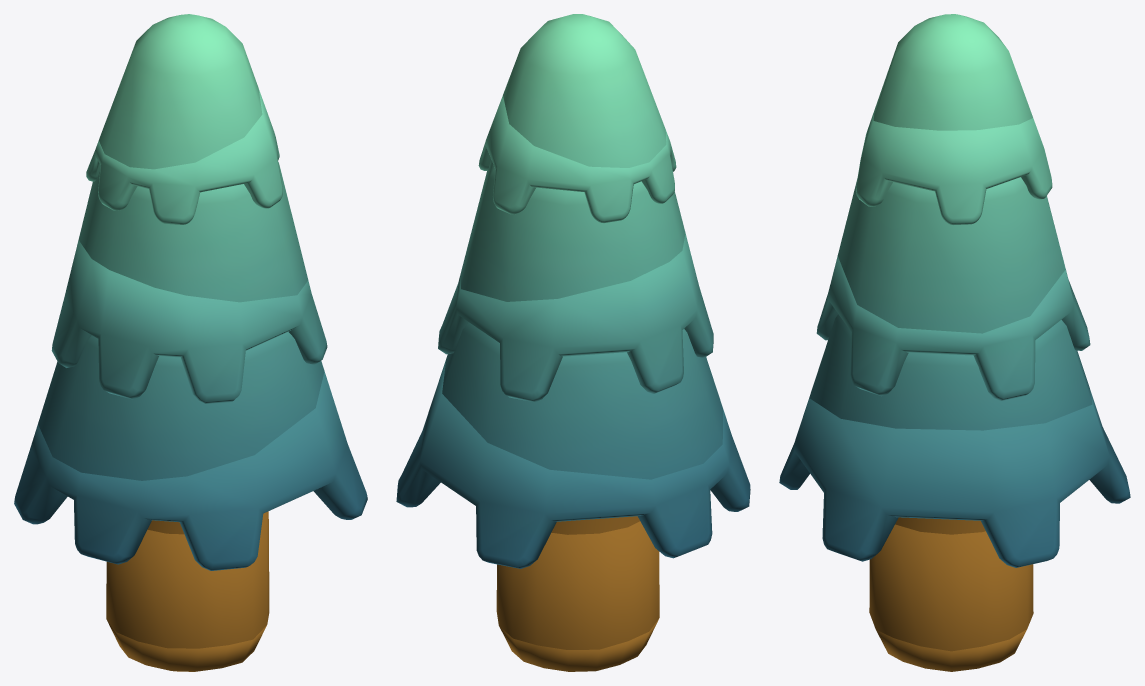
File: Tree_2.fbx
The picture shows the model from 3 angles, left to right: view 1: azimuth 30°, elevation 25°; view 2: azimuth 150°, elevation 25°; view 3: azimuth 270°, elevation 25°; orthographic projection.
Visible parts, largest first — view 1: Trtee_Cuts4, Trtee_Cuts3, Trtee_Cuts5, Trtee_Cuts2, Trtee_Cuts6, Trtee_Cuts1; view 2: Trtee_Cuts4, Trtee_Cuts3, Trtee_Cuts5, Trtee_Cuts2, Trtee_Cuts6, Trtee_Cuts1; view 3: Trtee_Cuts3, Trtee_Cuts5, Trtee_Cuts4, Trtee_Cuts6, Trtee_Cuts2, Trtee_Cuts1.
Boxes of the visible parts, x1=… form: Trtee_Cuts4: x1=38, y1=240, x2=327, y2=480; Trtee_Cuts3: x1=78, y1=89, x2=308, y2=302; Trtee_Cuts5: x1=14, y1=372, x2=367, y2=570; Trtee_Cuts2: x1=99, y1=14, x2=262, y2=169; Trtee_Cuts6: x1=106, y1=511, x2=269, y2=648; Trtee_Cuts1: x1=107, y1=620, x2=266, y2=671; Trtee_Cuts4: x1=438, y1=233, x2=722, y2=479; Trtee_Cuts3: x1=461, y1=95, x2=685, y2=301; Trtee_Cuts5: x1=396, y1=359, x2=750, y2=568; Trtee_Cuts2: x1=503, y1=14, x2=666, y2=167; Trtee_Cuts6: x1=496, y1=521, x2=659, y2=649; Trtee_Cuts1: x1=499, y1=619, x2=658, y2=671; Trtee_Cuts3: x1=837, y1=111, x2=1065, y2=333; Trtee_Cuts5: x1=779, y1=389, x2=1130, y2=567; Trtee_Cuts4: x1=809, y1=247, x2=1092, y2=430; Trtee_Cuts6: x1=869, y1=524, x2=1033, y2=651; Trtee_Cuts2: x1=873, y1=14, x2=1032, y2=130; Trtee_Cuts1: x1=876, y1=629, x2=1026, y2=671.
Size of the model in its own units: 5.38 by 11.02 by 5.58.
3 materials, 1 textured.
